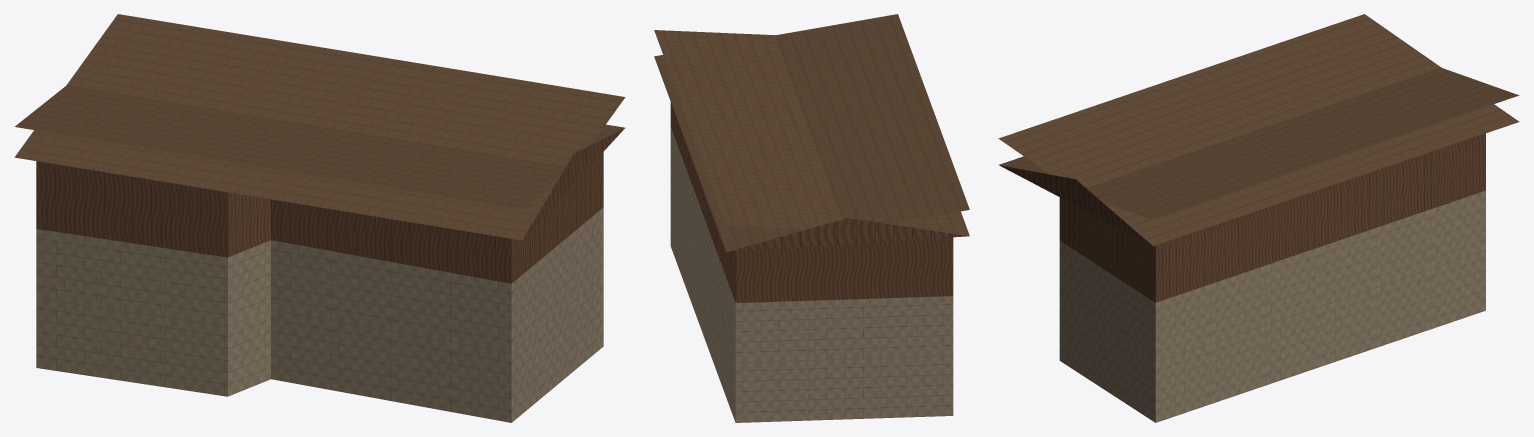
Rendered from bld_c6_7_488.gltf.
3 renders of one model, left to right at view 1: azimuth 30°, elevation 25°; view 2: azimuth 150°, elevation 25°; view 3: azimuth 270°, elevation 25°, orthographic. The views are drawn at different scales.
Visible parts, largest first — view 1: bld_c6_7_488; view 2: bld_c6_7_488; view 3: bld_c6_7_488.
Boxes of the visible parts, <box> form: bld_c6_7_488: <box>14,14,625,422</box>; bld_c6_7_488: <box>654,14,969,422</box>; bld_c6_7_488: <box>998,14,1519,422</box>.
Bounding box in the file's own units: 16.7 × 8 × 17.86.
Materials: 4 (4 with a texture image).
